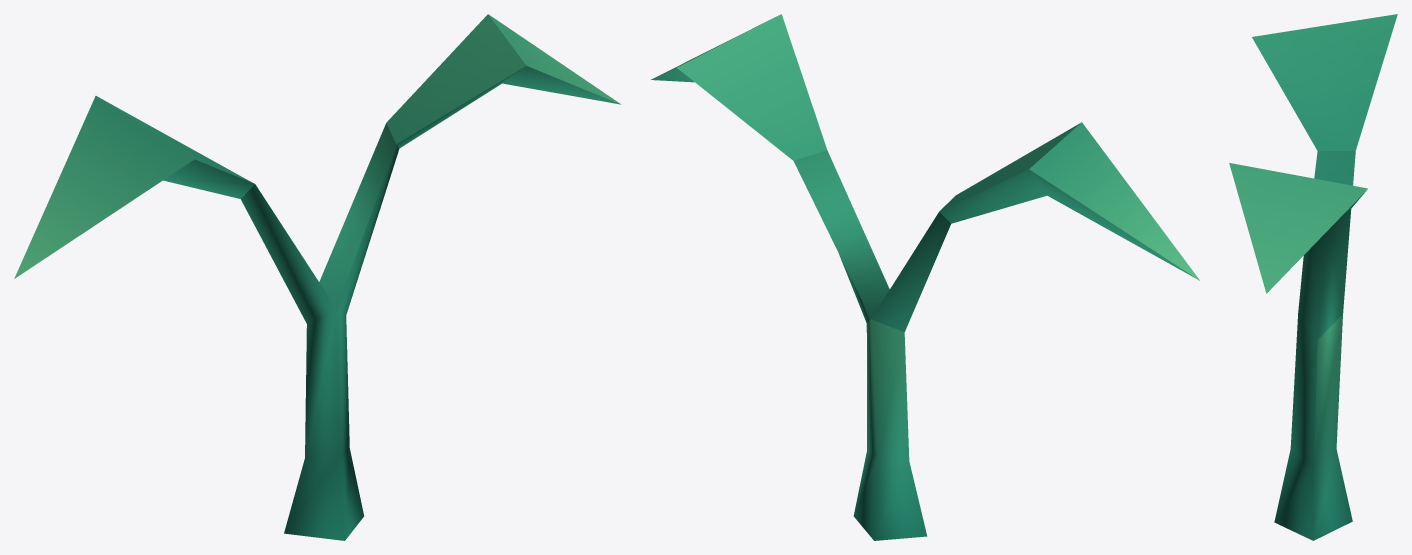
File: CornSprout01.glb
3 views of the same model, side by side, from view 1: azimuth 30°, elevation 25°; view 2: azimuth 150°, elevation 25°; view 3: azimuth 270°, elevation 25° (orthographic). The views are drawn at different scales.
Parts seen in each view (by area): view 1: CornSprout01; view 2: CornSprout01; view 3: CornSprout01.
Part boxes in pixels (left/top/right/bottom): CornSprout01: left=14, top=14, right=621, bottom=540; CornSprout01: left=651, top=14, right=1199, bottom=540; CornSprout01: left=1229, top=14, right=1397, bottom=540.
Size of the model in its own units: 0.6435 by 0.4764 by 0.1683.
1 material, 1 textured.
